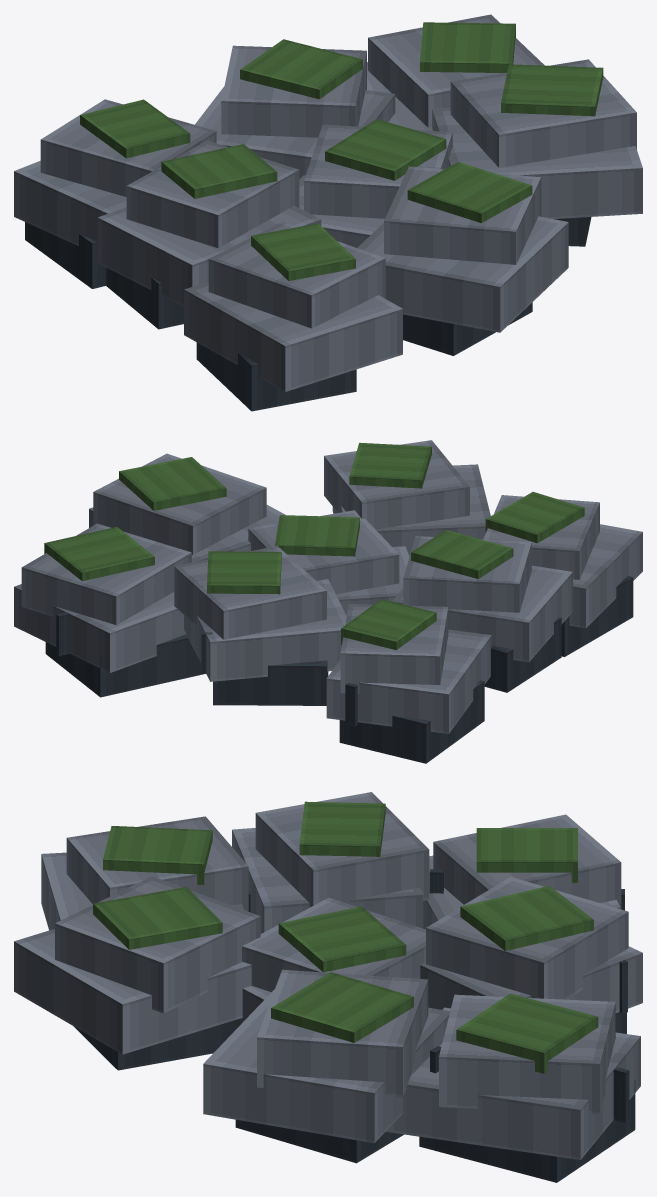
Rendered from ruin_rubble_forest.gltf.
3 renders of one model, top to bottom at view 1: azimuth 30°, elevation 25°; view 2: azimuth 150°, elevation 25°; view 3: azimuth 270°, elevation 25°, orthographic. The views are drawn at different scales.
Visible parts, largest first — view 1: root_mesh; view 2: root_mesh; view 3: root_mesh.
Part boxes in pixels (x1,y1,x2,y2): root_mesh: (14, 14, 642, 411); root_mesh: (14, 440, 642, 763); root_mesh: (14, 792, 642, 1182).
Bounding box in the file's own units: 1.76 × 0.4613 × 1.7.
Materials: 1 (1 with a texture image).
